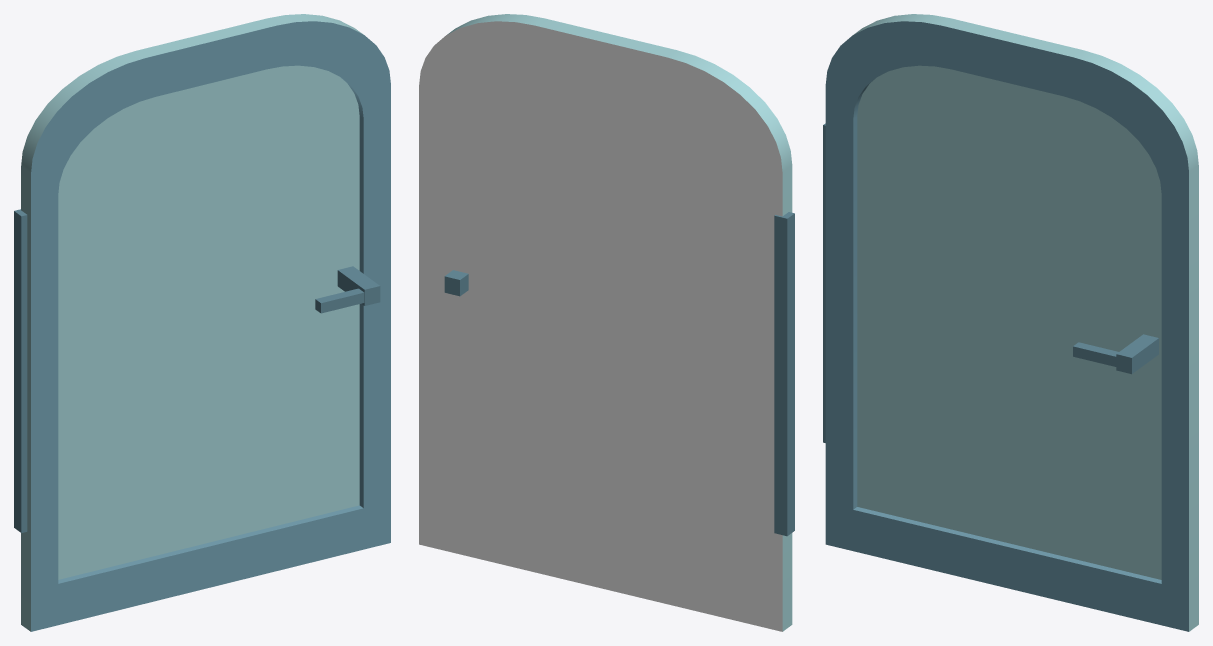
Rendered from full door.fbx.
3 renders of one model, left to right at view 1: azimuth 30°, elevation 25°; view 2: azimuth 150°, elevation 25°; view 3: azimuth 330°, elevation 25°, orthographic.
Visible parts, largest first — view 1: door; view 2: door; view 3: door.
Boxes of the visible parts, x1=… form: door: x1=14, y1=14, x2=390, y2=631; door: x1=419, y1=14, x2=794, y2=631; door: x1=823, y1=14, x2=1198, y2=631.
Bounding box in the file's own units: 177 × 251 × 34.57.
